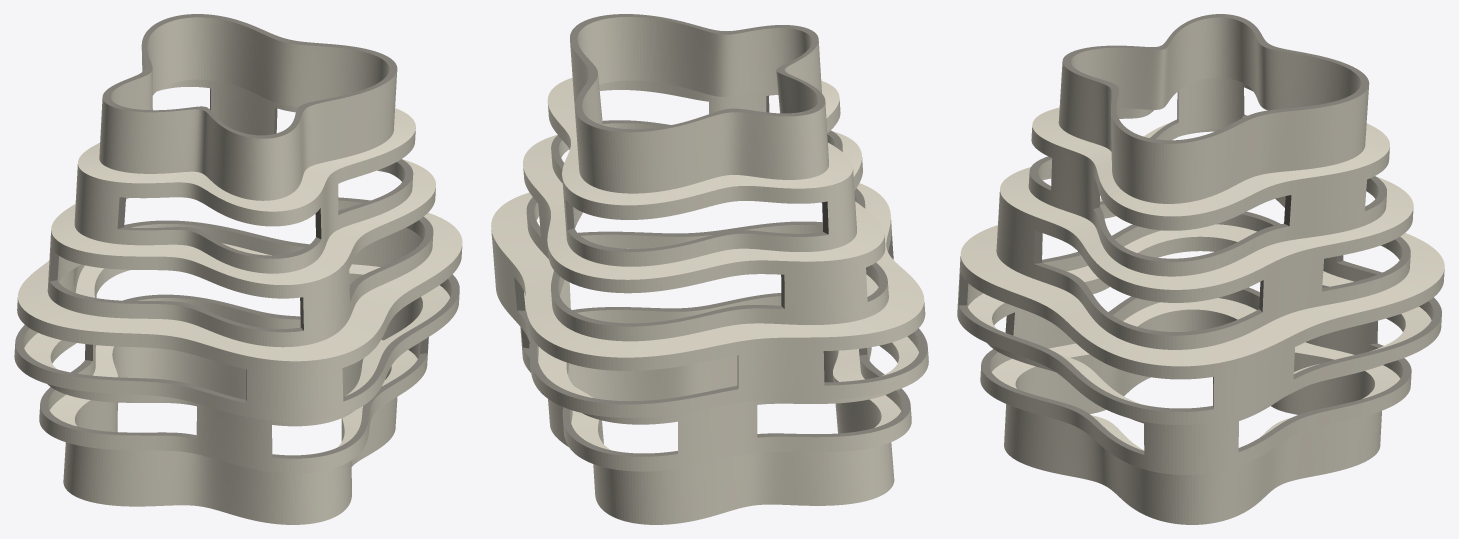
The model's file is offset-contour-lantern.glb.
3 views of the same model, side by side, from view 1: azimuth 30°, elevation 25°; view 2: azimuth 150°, elevation 25°; view 3: azimuth 270°, elevation 25° (orthographic). The views are drawn at different scales.
Visible parts, largest first — view 1: offset-contour-lantern; view 2: offset-contour-lantern; view 3: offset-contour-lantern.
Part boxes in pixels (x1=…): offset-contour-lantern: x1=14, y1=14, x2=462, y2=524; offset-contour-lantern: x1=491, y1=14, x2=928, y2=524; offset-contour-lantern: x1=957, y1=14, x2=1444, y2=524.
Bounding box in the file's own units: 197 × 168 × 197.
